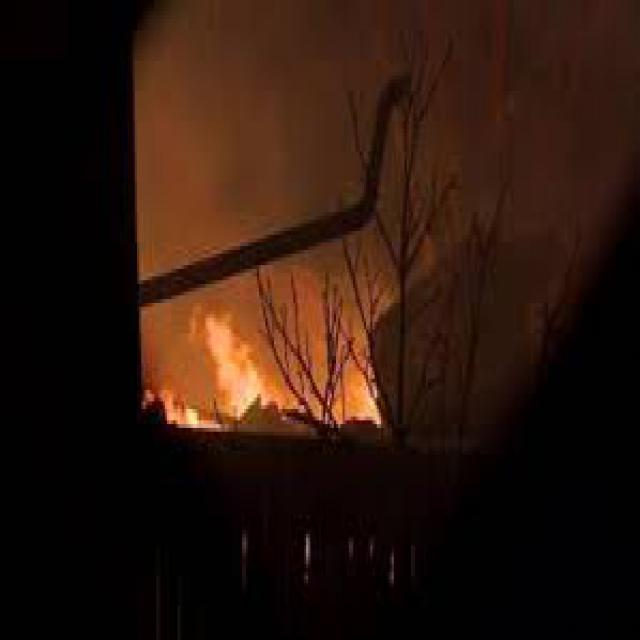Fire: (144, 306, 280, 438), (329, 343, 397, 442)
Smoke: (392, 18, 628, 316), (149, 21, 394, 282)
